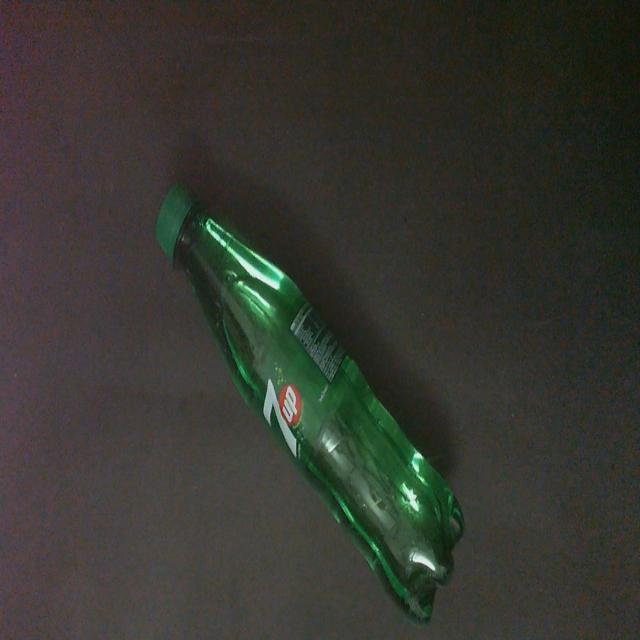non-defect: (153, 177, 467, 627)
